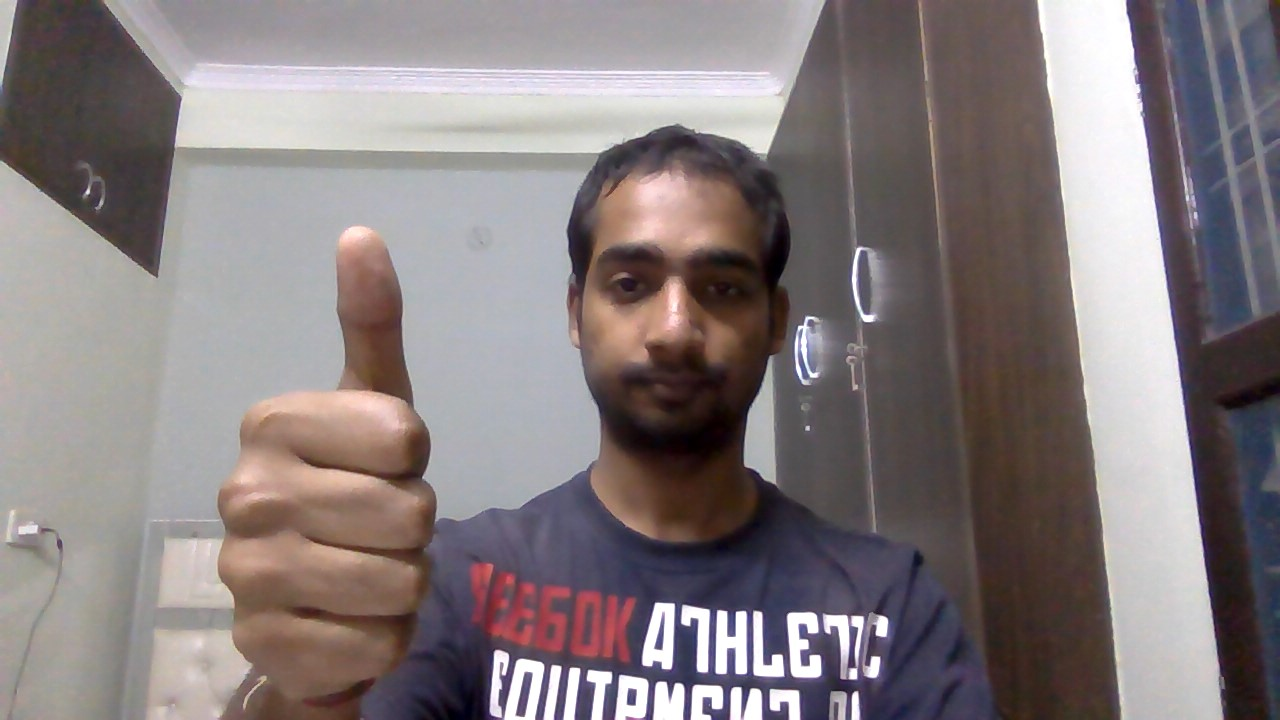Save: (194, 210, 462, 703)
